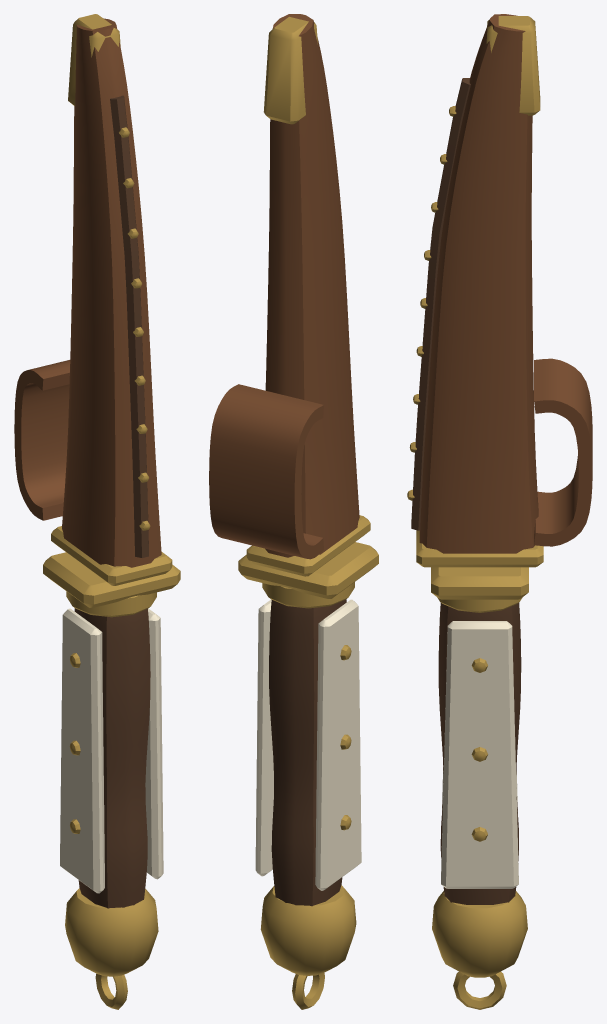
File: tool_huntingknife.fbx
The picture shows the model from 3 angles, left to right: view 1: azimuth 30°, elevation 25°; view 2: azimuth 150°, elevation 25°; view 3: azimuth 270°, elevation 25°; orthographic projection. The views are drawn at different scales.
Parts seen in each view (by area): view 1: Tool_HuntingKnife_Sheath, Tool_HuntingKnife_Handle, Tool_HuntingKnife_Brass; view 2: Tool_HuntingKnife_Sheath, Tool_HuntingKnife_Handle, Tool_HuntingKnife_Brass; view 3: Tool_HuntingKnife_Sheath, Tool_HuntingKnife_Handle, Tool_HuntingKnife_Brass.
Part boxes in pixels (bbox=[...]): Tool_HuntingKnife_Sheath: bbox=[14, 14, 172, 585]; Tool_HuntingKnife_Handle: bbox=[60, 608, 163, 908]; Tool_HuntingKnife_Brass: bbox=[43, 552, 180, 1009]; Tool_HuntingKnife_Sheath: bbox=[209, 14, 370, 576]; Tool_HuntingKnife_Handle: bbox=[255, 599, 361, 906]; Tool_HuntingKnife_Brass: bbox=[238, 542, 378, 1009]; Tool_HuntingKnife_Sheath: bbox=[407, 14, 592, 567]; Tool_HuntingKnife_Handle: bbox=[438, 602, 521, 904]; Tool_HuntingKnife_Brass: bbox=[431, 567, 528, 1009].
Size of the model in its own units: 5.8 by 55.74 by 9.45.
